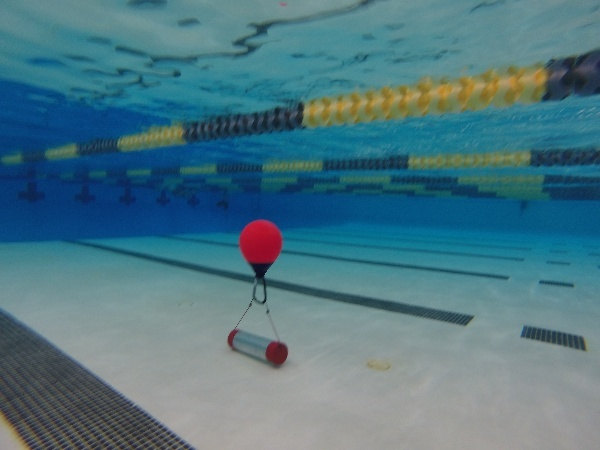buoy_red: (236, 218, 284, 280)
